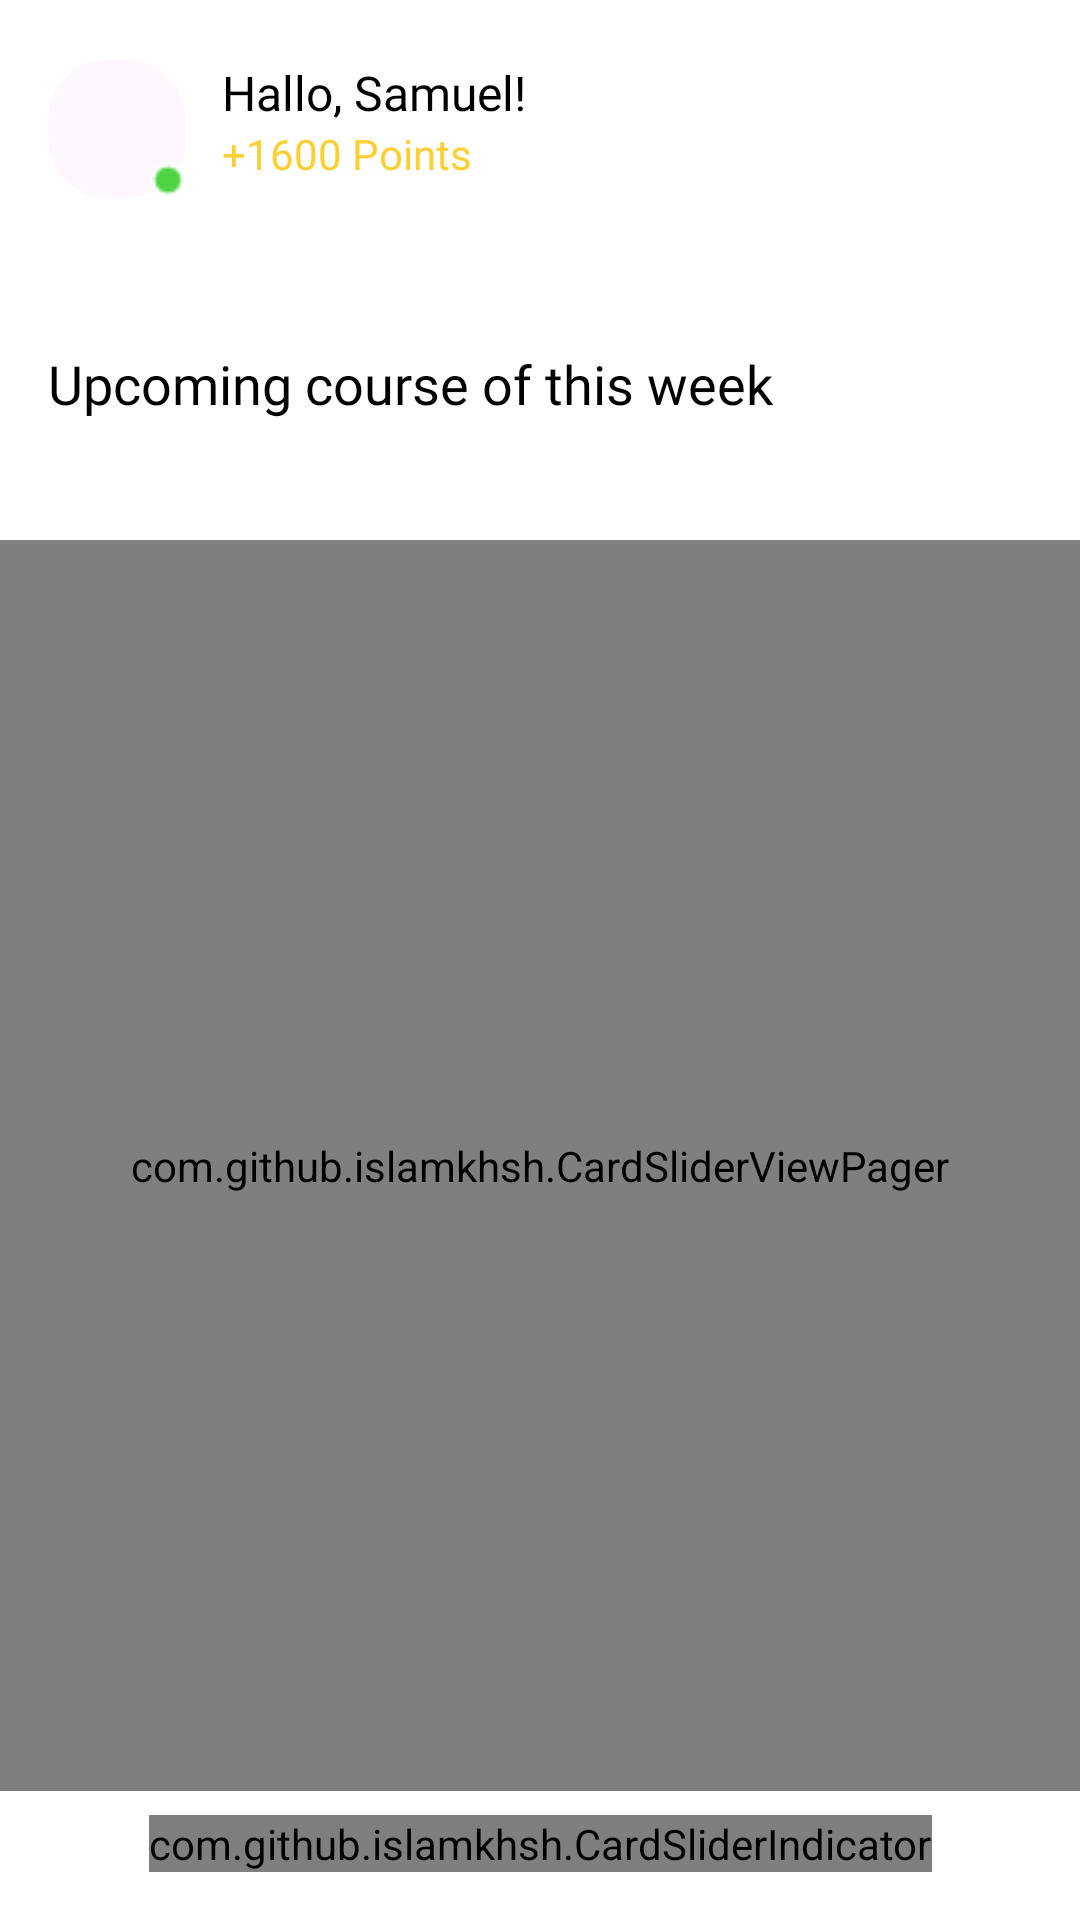

Icons on this 1080 x 1920 Android screen, each with the point to tap as (x=x, y=y):
online: (x=168, y=180)
